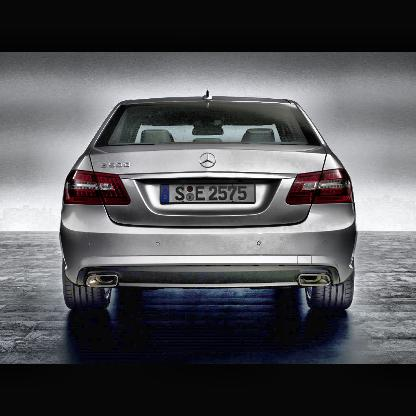Mercedes-Benz E-Class Sedan 2012: (60, 93, 358, 312)
